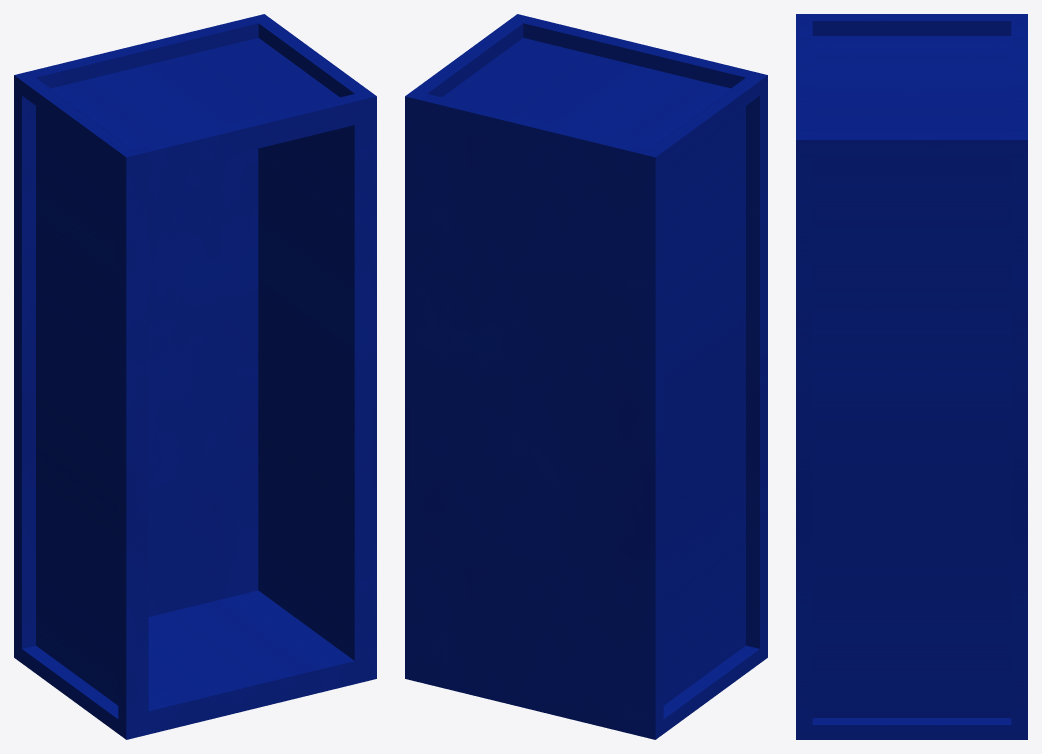
3 renders of one model, left to right at view 1: azimuth 30°, elevation 25°; view 2: azimuth 150°, elevation 25°; view 3: azimuth 270°, elevation 25°, orthographic. The views are drawn at different scales.
Visible parts, largest first — view 1: Body1; view 2: Body1; view 3: Body1.
Part boxes in pixels (<box>): Body1: <box>14,14,376,739</box>; Body1: <box>405,14,767,739</box>; Body1: <box>796,14,1027,739</box>.
Bounding box in the file's own units: 0.09 × 0.2 × 0.07.
Materials: 1 (1 with a texture image).
